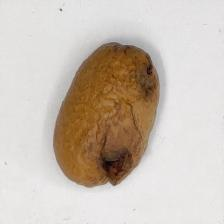NG: (94, 102, 133, 187), (133, 41, 161, 104)
